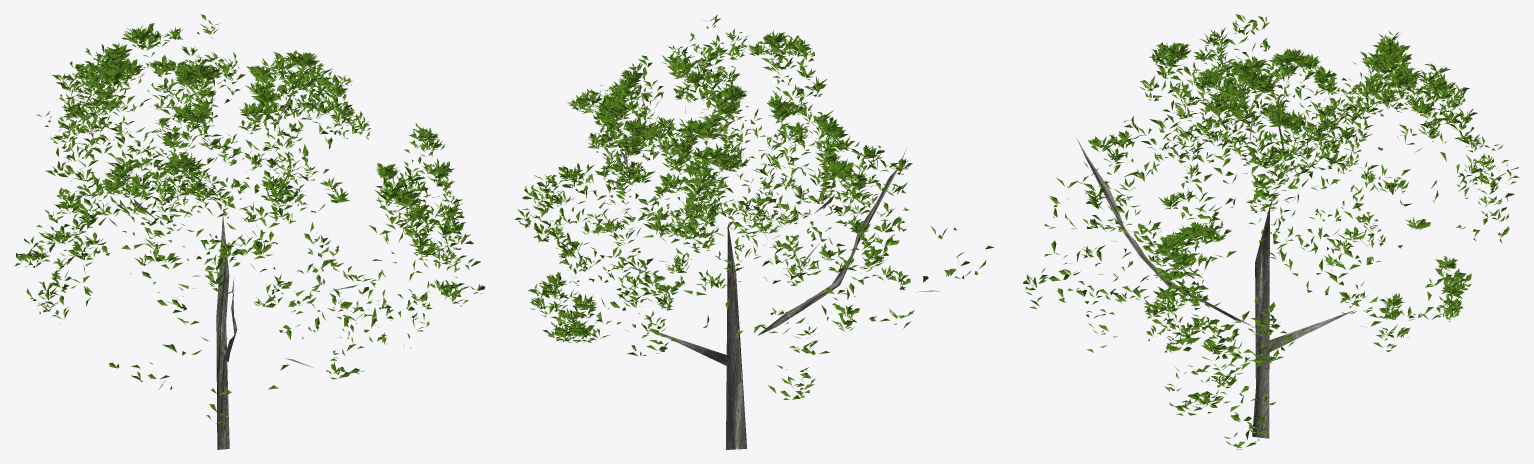
Rendered from cerisier-2.glb.
The picture shows the model from 3 angles, left to right: view 1: azimuth 30°, elevation 25°; view 2: azimuth 150°, elevation 25°; view 3: azimuth 270°, elevation 25°; orthographic projection.
Parts seen in each view (by area): view 1: Object_6, Object_7, Object_8, Object_11, Object_13, Object_10, Object_12, Object_9, Object_2; view 2: Object_6, Object_7, Object_8, Object_10, Object_13, Object_12, Object_2, Object_9, Object_11; view 3: Object_6, Object_7, Object_8, Object_11, Object_13, Object_10, Object_9, Object_12, Object_2.
Part boxes in pixels (x1,y1,x2,y2): Object_6: (30,26,461,423); Object_7: (29,24,480,389); Object_8: (14,23,485,381); Object_11: (22,25,478,378); Object_13: (36,20,454,360); Object_10: (28,14,483,371); Object_12: (25,27,462,348); Object_9: (33,26,465,331); Object_2: (108,57,407,449); Object_6: (531,30,964,396); Object_7: (517,18,994,398); Object_8: (522,32,986,397); Object_10: (518,32,905,399); Object_13: (530,34,907,356); Object_12: (524,26,905,346); Object_2: (620,69,939,449); Object_9: (525,34,911,393); Object_11: (515,14,903,353); Object_6: (1029,33,1501,448); Object_7: (1030,22,1514,407); Object_8: (1023,14,1518,447); Object_11: (1030,14,1509,442); Object_13: (1049,21,1516,445); Object_10: (1026,28,1507,415); Object_9: (1044,45,1495,449); Object_12: (1081,17,1519,405); Object_2: (1071,114,1354,438).
Size of what is drawn, in the model's own units: 83.59 by 76.38 by 85.26.
2 materials, 2 textured.
